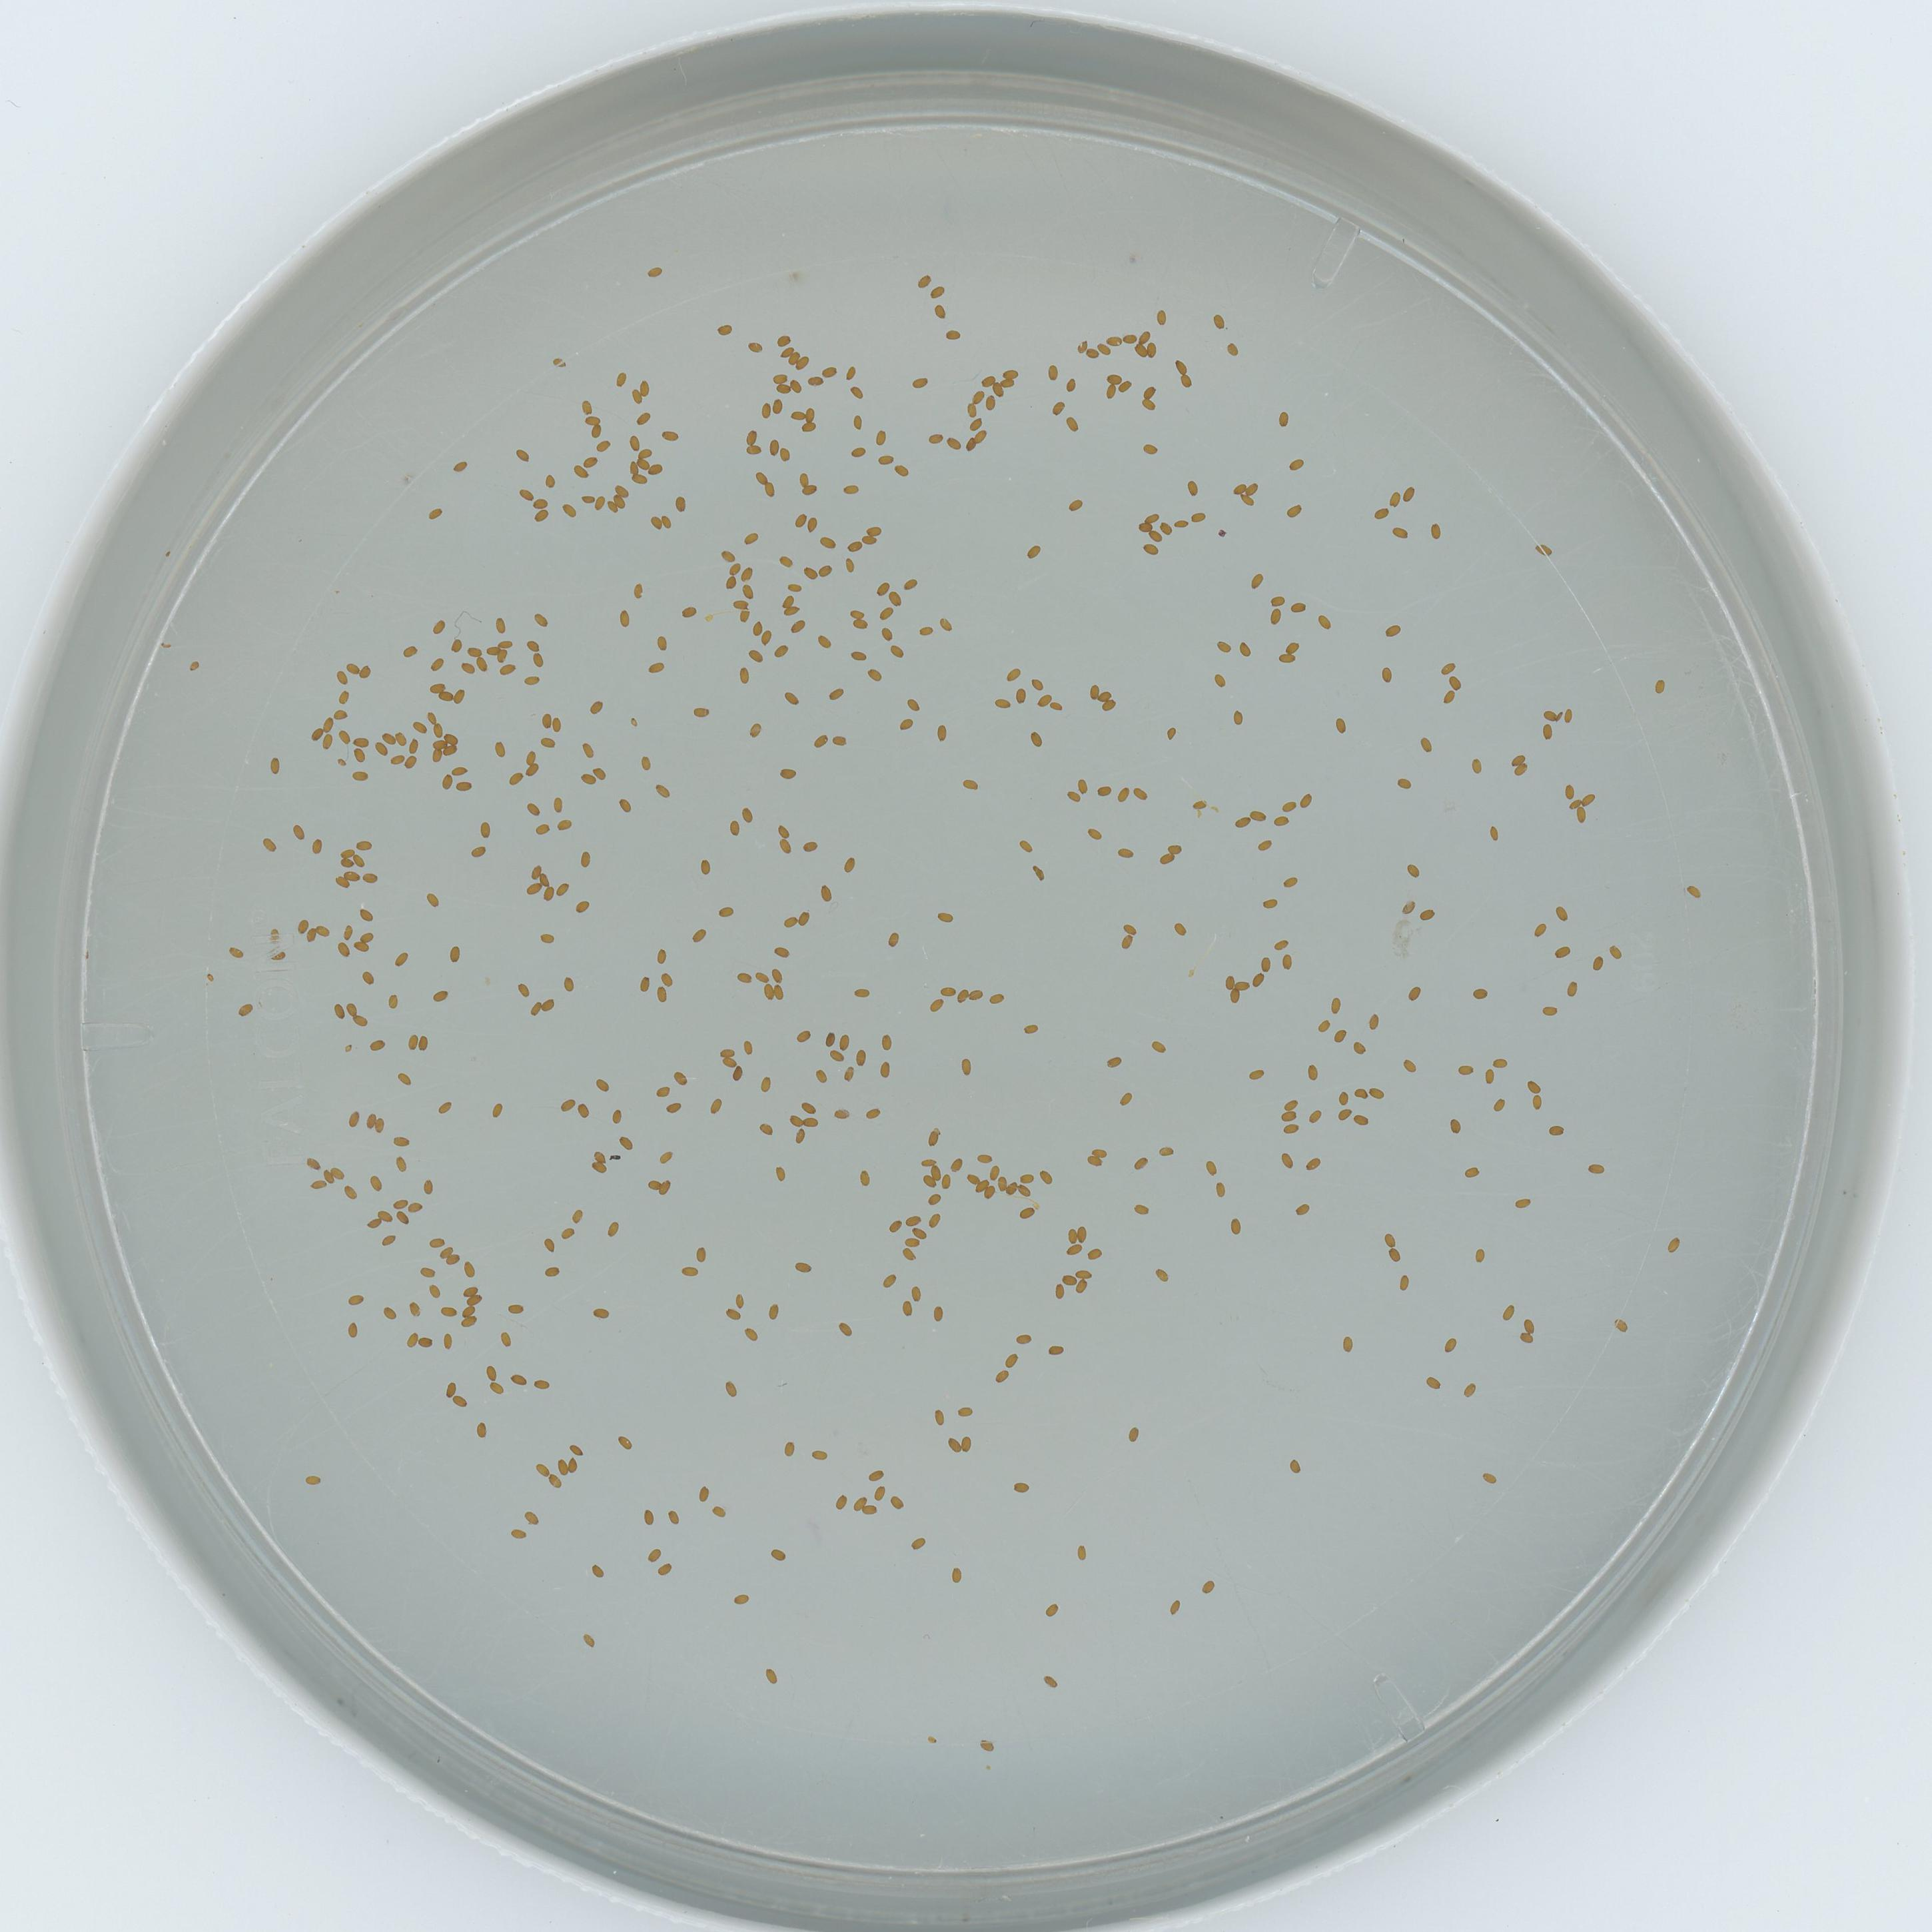seed: (1677, 881, 1702, 901), (755, 1074, 775, 1097), (1520, 1316, 1543, 1336), (439, 1380, 458, 1401), (418, 1177, 437, 1198), (870, 1484, 890, 1506), (584, 425, 607, 442), (1277, 950, 1295, 973), (288, 823, 308, 842), (876, 1058, 895, 1077), (1171, 920, 1191, 939), (1224, 987, 1244, 1007), (1277, 1150, 1297, 1169), (948, 1155, 966, 1177), (1552, 904, 1573, 922), (1497, 1304, 1518, 1322), (660, 425, 679, 442), (446, 945, 465, 962), (747, 646, 766, 663), (817, 885, 837, 902), (334, 729, 354, 747), (628, 389, 648, 407), (396, 1069, 414, 1088), (510, 1368, 529, 1385), (878, 1031, 895, 1051), (656, 1148, 676, 1166), (853, 1046, 872, 1063), (609, 1106, 626, 1125), (924, 1127, 941, 1146), (727, 1065, 745, 1085), (460, 1260, 479, 1277), (1389, 522, 1408, 540), (1376, 665, 1396, 683), (1040, 1674, 1060, 1691), (1070, 1279, 1090, 1297), (1304, 1154, 1322, 1173), (1394, 1272, 1414, 1290), (1063, 1240, 1083, 1258), (959, 1058, 977, 1077), (899, 1235, 920, 1251), (1401, 1056, 1417, 1077), (878, 605, 895, 623), (874, 428, 892, 446), (548, 796, 566, 814), (927, 428, 945, 446), (773, 642, 791, 660), (692, 925, 709, 943), (932, 724, 950, 741), (265, 757, 283, 775), (476, 821, 494, 839), (784, 690, 801, 708), (577, 851, 594, 869), (786, 577, 803, 594), (655, 782, 672, 800), (672, 495, 690, 513), (573, 897, 591, 915), (812, 732, 830, 750), (350, 766, 368, 784), (740, 582, 757, 600), (837, 1030, 855, 1047), (557, 1095, 575, 1113), (646, 1545, 663, 1562), (780, 1440, 798, 1458), (695, 1484, 713, 1502), (543, 1260, 561, 1277), (540, 1235, 557, 1253), (343, 1320, 361, 1338), (901, 1247, 918, 1265), (522, 1507, 540, 1525), (418, 1332, 435, 1350), (708, 1097, 725, 1115), (796, 1024, 814, 1042), (925, 1212, 943, 1230), (379, 1230, 396, 1247), (793, 1127, 810, 1145), (754, 968, 771, 985), (426, 1281, 444, 1299), (856, 1168, 874, 1185), (1279, 874, 1297, 892), (1417, 736, 1435, 754), (1269, 591, 1286, 609), (1115, 844, 1132, 862), (1247, 571, 1265, 589), (1044, 363, 1062, 380), (1426, 522, 1444, 540), (1403, 863, 1421, 881), (1315, 612, 1332, 630), (1026, 729, 1044, 747), (1037, 1168, 1054, 1185), (1385, 1246, 1403, 1263), (1587, 1159, 1605, 1177), (1306, 1106, 1323, 1123), (1224, 1217, 1242, 1235), (1304, 1062, 1322, 1079), (789, 617, 809, 633), (320, 715, 336, 734), (633, 410, 653, 426), (524, 801, 543, 817), (890, 1491, 906, 1511), (679, 1263, 699, 1279), (1003, 665, 1023, 681), (1047, 400, 1067, 416), (1258, 955, 1274, 975), (1270, 938, 1290, 954), (1589, 954, 1605, 973), (1573, 803, 1589, 823), (1461, 1164, 1481, 1180), (1424, 1373, 1444, 1389), (1330, 1026, 1350, 1042), (1281, 642, 1304, 655), (851, 648, 869, 663), (867, 520, 885, 536), (352, 732, 370, 748), (361, 870, 379, 886), (801, 564, 819, 580), (533, 612, 550, 628), (821, 534, 839, 550), (402, 642, 419, 658), (878, 451, 895, 467), (582, 451, 600, 467), (430, 617, 448, 633), (410, 718, 428, 734), (846, 538, 863, 554), (356, 906, 373, 922), (446, 637, 464, 653), (886, 931, 904, 947), (911, 373, 929, 389), (540, 734, 557, 750), (945, 435, 962, 451), (506, 771, 524, 787), (522, 750, 540, 766), (844, 479, 862, 495), (541, 472, 559, 488), (313, 922, 331, 938), (338, 924, 356, 939), (655, 947, 671, 964), (538, 929, 556, 945), (727, 821, 745, 837), (469, 844, 487, 860), (842, 858, 860, 874), (842, 557, 860, 573), (428, 655, 446, 671), (879, 625, 897, 640), (260, 837, 278, 853), (936, 908, 954, 924), (571, 464, 589, 479), (849, 384, 867, 400), (372, 741, 389, 757), (718, 902, 734, 920), (612, 370, 630, 386), (828, 685, 844, 702), (653, 635, 671, 651), (888, 591, 906, 607), (849, 414, 867, 430), (697, 860, 715, 876), (867, 667, 885, 683), (308, 839, 326, 855), (423, 893, 441, 909), (717, 320, 734, 336), (747, 722, 764, 738), (821, 363, 839, 379), (492, 617, 508, 635), (580, 741, 596, 759), (350, 748, 368, 764), (681, 605, 699, 621), (759, 630, 777, 646), (393, 950, 410, 966), (791, 513, 809, 529), (736, 667, 754, 683), (817, 633, 835, 649), (455, 778, 472, 794), (333, 706, 350, 722), (333, 941, 350, 957), (763, 483, 780, 499), (580, 1631, 596, 1649), (655, 1085, 672, 1100), (568, 1440, 586, 1456), (925, 1191, 943, 1207), (637, 975, 653, 993), (724, 1380, 740, 1398), (642, 1509, 658, 1527), (510, 1525, 527, 1541), (393, 1131, 410, 1146), (867, 1468, 885, 1484), (347, 1290, 364, 1306), (800, 1097, 817, 1113), (665, 1100, 683, 1116), (743, 1325, 761, 1341), (402, 1330, 418, 1348), (837, 1320, 855, 1336), (488, 1380, 506, 1396), (483, 1364, 501, 1380), (605, 1219, 621, 1237), (416, 1031, 432, 1049), (533, 1375, 550, 1391), (304, 1152, 320, 1169), (472, 1422, 490, 1438), (904, 1214, 922, 1230), (794, 1260, 812, 1276), (939, 982, 957, 998), (927, 996, 945, 1012), (616, 1433, 633, 1449), (593, 1304, 610, 1320), (559, 1224, 575, 1242), (821, 1030, 839, 1046), (303, 1470, 320, 1486), (617, 1136, 635, 1152), (594, 1074, 610, 1092), (665, 1509, 683, 1525), (833, 1104, 851, 1120), (460, 1315, 478, 1330), (1024, 543, 1042, 559), (1249, 807, 1267, 823), (1332, 718, 1350, 734), (1401, 485, 1417, 502), (1182, 479, 1200, 495), (1384, 623, 1401, 639), (1286, 455, 1304, 471), (1399, 899, 1417, 915), (1116, 379, 1134, 395), (1260, 895, 1277, 911), (1299, 793, 1315, 810), (1274, 410, 1292, 426), (1539, 724, 1557, 740), (1012, 686, 1028, 704), (1120, 918, 1136, 936), (1139, 382, 1157, 398), (1214, 639, 1231, 655), (1484, 826, 1502, 842), (1033, 692, 1051, 708), (1541, 708, 1559, 724), (1267, 610, 1284, 626), (1560, 782, 1578, 798), (1177, 373, 1194, 389), (1113, 787, 1131, 803), (1256, 839, 1274, 855), (1468, 759, 1486, 775), (1104, 368, 1122, 384), (1116, 934, 1134, 950), (1063, 416, 1081, 432), (1272, 814, 1290, 830), (1651, 678, 1668, 694), (1277, 651, 1295, 667), (1553, 941, 1571, 957), (1085, 826, 1102, 842), (1099, 699, 1116, 715), (1210, 313, 1228, 329), (1012, 1477, 1030, 1493), (1249, 971, 1265, 989), (1491, 1053, 1509, 1069), (1440, 1336, 1458, 1352), (968, 985, 985, 1001), (1286, 1458, 1304, 1474), (1665, 1237, 1683, 1253), (1562, 980, 1580, 996), (1003, 1352, 1019, 1369), (1447, 1116, 1465, 1132), (1382, 1230, 1398, 1247), (1085, 1244, 1102, 1260), (1132, 1154, 1150, 1169), (1461, 1380, 1479, 1396), (1548, 1122, 1566, 1138), (1201, 1159, 1219, 1175), (1368, 1083, 1385, 1099), (1334, 1088, 1350, 1106), (1523, 1081, 1541, 1097), (1104, 1051, 1122, 1067), (978, 1737, 996, 1753), (1125, 1424, 1141, 1442), (1016, 1182, 1033, 1198), (1339, 1336, 1357, 1352), (1212, 1178, 1228, 1196), (350, 939, 370, 954), (370, 1173, 384, 1192), (395, 1155, 409, 1175), (947, 1437, 961, 1456), (955, 987, 970, 1007), (955, 1405, 975, 1419), (1582, 787, 1596, 807), (851, 442, 867, 458), (524, 637, 540, 653), (945, 327, 961, 343), (918, 623, 934, 639), (754, 469, 770, 485), (617, 798, 633, 814), (556, 883, 571, 899), (904, 697, 920, 713), (899, 717, 915, 732), (357, 663, 373, 679), (561, 502, 577, 518), (844, 364, 860, 380), (916, 271, 932, 287), (513, 446, 529, 462), (540, 888, 556, 904), (632, 582, 648, 598), (938, 616, 954, 632), (791, 407, 807, 423), (536, 713, 552, 729), (580, 400, 596, 416), (426, 504, 442, 520), (807, 517, 823, 533), (740, 807, 755, 823), (929, 283, 945, 299), (518, 487, 534, 502), (359, 931, 375, 947), (589, 699, 605, 715), (893, 462, 909, 478), (832, 732, 847, 748), (458, 662, 474, 678), (453, 688, 469, 704), (798, 909, 814, 925), (439, 775, 455, 791), (775, 943, 791, 959), (778, 554, 794, 570), (594, 437, 610, 453), (356, 837, 372, 853), (789, 377, 805, 393), (648, 658, 663, 674), (617, 610, 633, 626), (720, 547, 736, 563), (492, 741, 508, 757), (780, 766, 796, 782), (782, 913, 798, 929), (771, 398, 787, 414), (796, 471, 812, 487), (453, 764, 469, 780), (745, 428, 761, 444), (556, 817, 571, 833), (803, 407, 819, 423), (453, 458, 469, 474), (931, 303, 947, 318), (803, 839, 819, 855), (777, 839, 793, 855), (425, 709, 441, 725), (778, 446, 794, 462), (529, 653, 545, 669), (745, 442, 761, 458), (594, 764, 610, 780), (639, 755, 655, 771), (626, 433, 642, 449), (308, 725, 324, 741), (186, 658, 202, 674), (780, 593, 796, 609), (430, 724, 446, 740), (550, 356, 566, 372), (908, 1284, 924, 1300), (441, 1334, 456, 1350), (515, 982, 531, 998), (814, 1067, 830, 1083), (948, 1568, 964, 1583), (655, 985, 671, 1001), (931, 1304, 947, 1320), (432, 987, 448, 1003), (370, 1035, 386, 1051), (909, 1534, 925, 1550), (561, 975, 577, 991), (497, 1330, 513, 1346), (883, 1270, 899, 1286), (380, 1304, 396, 1320), (771, 966, 787, 982), (547, 1474, 563, 1490), (842, 1065, 858, 1081), (656, 1560, 672, 1576), (359, 970, 375, 985), (736, 970, 752, 985), (711, 1502, 727, 1518), (867, 1104, 883, 1120), (771, 1546, 787, 1562), (329, 1003, 345, 1019), (589, 1562, 605, 1578), (386, 993, 402, 1008), (931, 1408, 947, 1424), (575, 1100, 591, 1116), (407, 1299, 423, 1315), (899, 1300, 915, 1316), (694, 1247, 709, 1263), (658, 971, 674, 987), (764, 1668, 780, 1684), (888, 1217, 904, 1233), (345, 1111, 361, 1127), (773, 1164, 789, 1180), (672, 1069, 688, 1085), (395, 1210, 410, 1226), (508, 1300, 524, 1316), (766, 1304, 782, 1320), (833, 1495, 849, 1511), (732, 1293, 748, 1309), (570, 1207, 586, 1223), (441, 1302, 456, 1318), (759, 1120, 775, 1136), (437, 1099, 453, 1115), (812, 1445, 828, 1461), (341, 1184, 357, 1200), (373, 1116, 389, 1132), (488, 1100, 504, 1116), (564, 1458, 580, 1474), (740, 1039, 755, 1054), (720, 1044, 736, 1060), (773, 984, 789, 1000), (1419, 906, 1435, 922), (1171, 357, 1187, 373), (1385, 488, 1401, 504), (1438, 660, 1454, 676), (1373, 504, 1389, 520), (1067, 497, 1083, 513), (1440, 690, 1456, 706), (994, 695, 1010, 711), (1237, 640, 1253, 656), (1230, 709, 1246, 725), (1095, 782, 1111, 798), (1085, 685, 1100, 701), (1141, 441, 1157, 456), (1191, 798, 1207, 814), (1560, 708, 1576, 724), (978, 372, 994, 387), (1074, 778, 1090, 794), (1028, 676, 1044, 692), (1284, 502, 1300, 518), (1246, 479, 1261, 495), (1210, 672, 1226, 688), (1152, 308, 1168, 324), (970, 389, 985, 405), (1189, 510, 1205, 525), (1017, 839, 1033, 855), (1062, 377, 1077, 393), (1279, 798, 1295, 814), (1290, 600, 1306, 616), (973, 428, 989, 444), (1074, 338, 1090, 354), (1352, 1111, 1368, 1127), (993, 1368, 1008, 1384), (1316, 1017, 1332, 1033), (1472, 984, 1488, 1000), (1405, 985, 1421, 1001), (1490, 1095, 1506, 1111), (989, 989, 1005, 1005), (985, 1162, 1001, 1178), (1293, 1200, 1309, 1215), (1614, 1316, 1629, 1332), (1072, 1545, 1088, 1560), (1247, 1063, 1263, 1079), (1541, 1001, 1557, 1017), (1152, 1265, 1168, 1281), (1017, 1203, 1033, 1219), (1472, 1246, 1488, 1261), (975, 1152, 991, 1168), (1458, 1060, 1474, 1076), (1132, 1200, 1148, 1215), (1327, 996, 1343, 1012), (1047, 1341, 1063, 1357), (1150, 1037, 1166, 1053), (1481, 1069, 1497, 1085), (1166, 1599, 1182, 1615), (1200, 1578, 1215, 1594), (1529, 1093, 1545, 1109), (202, 970, 218, 985), (901, 577, 918, 591), (766, 439, 780, 456), (533, 510, 550, 524), (269, 948, 287, 962), (740, 566, 757, 580), (777, 331, 794, 345), (817, 563, 835, 577), (736, 609, 754, 623), (428, 679, 446, 694), (334, 690, 352, 704), (809, 375, 826, 389), (524, 764, 541, 778), (350, 855, 368, 869), (294, 918, 308, 936), (428, 1235, 446, 1249), (350, 1012, 368, 1026), (828, 1047, 846, 1062), (235, 1001, 253, 1016), (720, 1054, 738, 1069), (444, 1251, 462, 1265), (460, 1281, 478, 1295), (554, 1458, 568, 1476), (763, 984, 777, 1001), (1530, 922, 1548, 936), (1164, 840, 1182, 855), (1223, 341, 1240, 356), (1157, 853, 1175, 867), (1509, 752, 1527, 766), (1141, 543, 1159, 557), (1104, 331, 1122, 345), (1095, 688, 1113, 702), (1281, 1099, 1299, 1113), (1350, 1039, 1368, 1053), (1074, 1223, 1088, 1240), (1042, 1603, 1060, 1617), (1014, 1332, 1031, 1346), (1516, 1330, 1534, 1345), (1090, 1146, 1108, 1161), (1116, 1090, 1134, 1104), (1223, 973, 1237, 991), (1074, 1265, 1092, 1279), (267, 929, 285, 943), (1005, 1180, 1019, 1198), (310, 1178, 329, 1191), (939, 1171, 952, 1191), (364, 1109, 377, 1129), (724, 577, 740, 591), (849, 605, 865, 619), (580, 773, 596, 787), (853, 617, 869, 632), (476, 658, 492, 672), (748, 340, 764, 354), (534, 823, 550, 837), (538, 872, 552, 888), (801, 423, 817, 437), (648, 513, 662, 529), (614, 481, 630, 495), (743, 531, 759, 545), (649, 462, 665, 476), (632, 472, 648, 487), (524, 674, 540, 688), (405, 740, 421, 754), (796, 356, 812, 370), (333, 671, 349, 685), (748, 621, 764, 635), (803, 485, 819, 499), (648, 264, 663, 278), (338, 846, 354, 860), (524, 883, 540, 897), (441, 745, 456, 759), (343, 660, 359, 674), (579, 492, 594, 506), (584, 412, 600, 426), (777, 824, 793, 839), (393, 731, 407, 747), (775, 382, 791, 396), (499, 663, 515, 678), (550, 717, 564, 732), (890, 644, 906, 658), (467, 644, 483, 658), (694, 704, 709, 718), (725, 561, 741, 575), (757, 403, 773, 418), (318, 736, 334, 750), (403, 755, 419, 770), (483, 642, 499, 656), (226, 945, 242, 959), (343, 869, 359, 883), (605, 501, 621, 515), (725, 1306, 741, 1320), (534, 1461, 550, 1476), (451, 1394, 467, 1408), (734, 1591, 750, 1605), (543, 996, 557, 1012), (787, 1111, 803, 1125), (364, 1215, 380, 1230), (407, 1200, 423, 1214), (803, 1113, 819, 1127), (646, 1177, 662, 1191), (419, 1263, 435, 1277), (855, 1495, 869, 1511), (318, 1168, 334, 1182), (391, 1194, 407, 1208), (660, 1178, 674, 1194), (1001, 364, 1017, 379), (1132, 787, 1148, 801), (982, 396, 998, 410), (1447, 676, 1463, 690), (1138, 327, 1152, 343), (1233, 816, 1249, 830), (1120, 329, 1136, 343), (1608, 945, 1624, 959), (1047, 701, 1063, 715), (1230, 479, 1246, 494), (1145, 508, 1161, 522), (1139, 398, 1155, 412), (1396, 777, 1412, 791), (1162, 727, 1178, 741), (1171, 517, 1187, 531), (1568, 798, 1583, 812), (970, 416, 984, 432), (1537, 541, 1553, 556), (1060, 1272, 1076, 1286), (1157, 1143, 1173, 1157), (1051, 1284, 1067, 1299), (1023, 1021, 1039, 1035), (1481, 1470, 1497, 1484), (1364, 1014, 1380, 1028), (1352, 1085, 1368, 1099), (1334, 1108, 1350, 1122), (1514, 1194, 1530, 1208), (1063, 1228, 1077, 1244), (1017, 1171, 1033, 1185), (982, 1185, 998, 1200), (331, 1168, 347, 1182), (931, 1166, 945, 1182), (533, 497, 550, 510), (784, 605, 801, 617), (778, 347, 796, 359), (407, 1033, 419, 1051), (924, 1173, 936, 1191), (913, 1226, 931, 1238), (961, 1435, 973, 1453), (1145, 341, 1157, 359), (1095, 343, 1113, 356), (1281, 1122, 1299, 1134), (1279, 1109, 1297, 1122), (1106, 384, 1116, 403), (876, 580, 890, 594), (380, 731, 395, 745), (303, 929, 317, 943), (437, 688, 451, 702), (637, 458, 651, 472), (444, 731, 458, 745), (614, 495, 628, 510), (527, 1000, 541, 1014), (345, 1000, 359, 1014), (439, 1246, 453, 1260), (1065, 791, 1079, 805), (1131, 343, 1145, 357), (991, 380, 1005, 395), (966, 777, 980, 791), (1238, 494, 1253, 508), (966, 1169, 980, 1184), (432, 738, 446, 752), (975, 1180, 989, 1194), (389, 754, 405, 766), (637, 446, 653, 458), (863, 534, 879, 547), (640, 380, 653, 396), (662, 513, 674, 529), (732, 598, 748, 610), (430, 748, 442, 764), (529, 863, 541, 879), (338, 858, 354, 870), (626, 458, 639, 474), (334, 878, 350, 890), (855, 985, 870, 998), (920, 1157, 936, 1169), (591, 1150, 607, 1162), (591, 1161, 607, 1173), (379, 1210, 395, 1223), (467, 1293, 483, 1306), (1146, 531, 1162, 543), (1235, 978, 1251, 991), (996, 1177, 1008, 1192), (1085, 1155, 1100, 1168), (1511, 766, 1529, 777), (495, 649, 510, 662), (773, 372, 787, 384), (594, 495, 607, 510), (863, 1502, 878, 1514), (1157, 522, 1171, 534), (499, 639, 515, 649), (460, 1306, 476, 1316), (1085, 349, 1100, 359), (966, 437, 977, 451), (966, 403, 977, 418), (925, 1734, 939, 1744), (1136, 522, 1152, 531), (789, 352, 800, 364)
